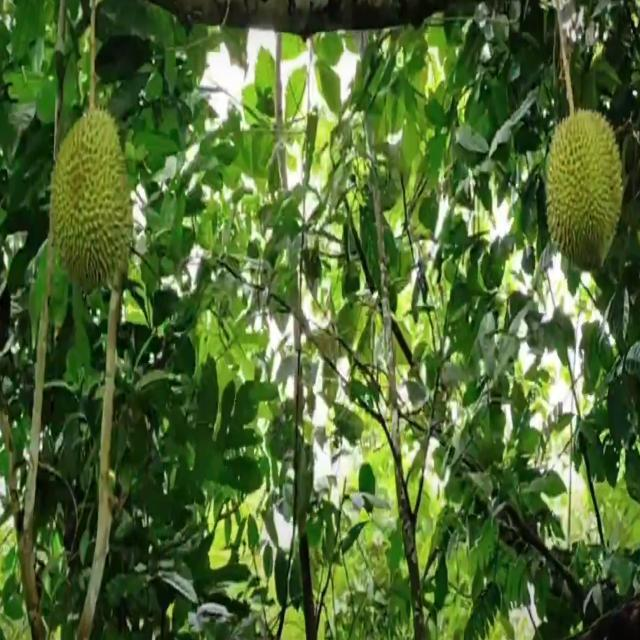immature: (48, 103, 132, 295), (543, 106, 624, 273)
